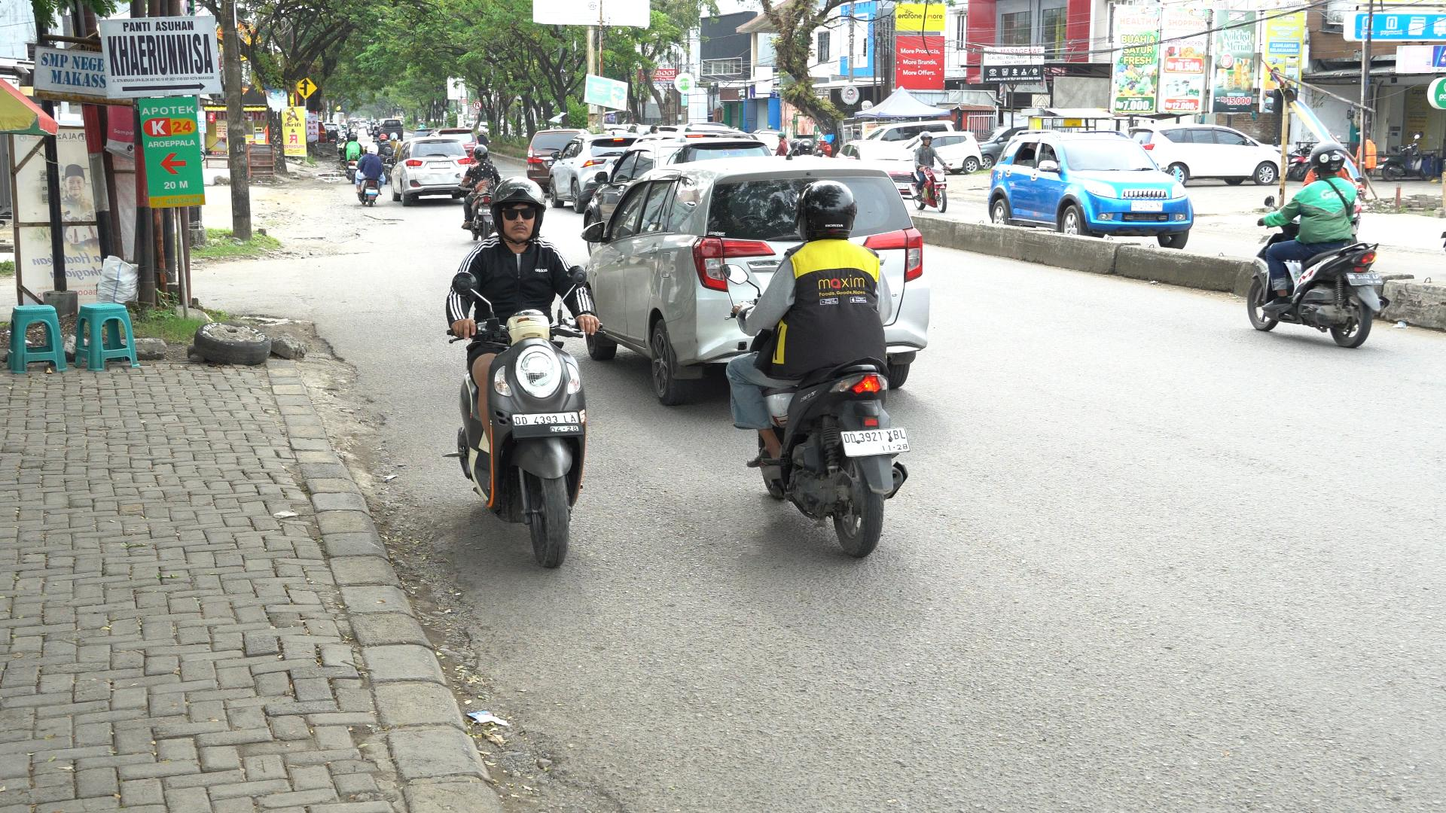number-plate: (506, 410, 587, 438)
